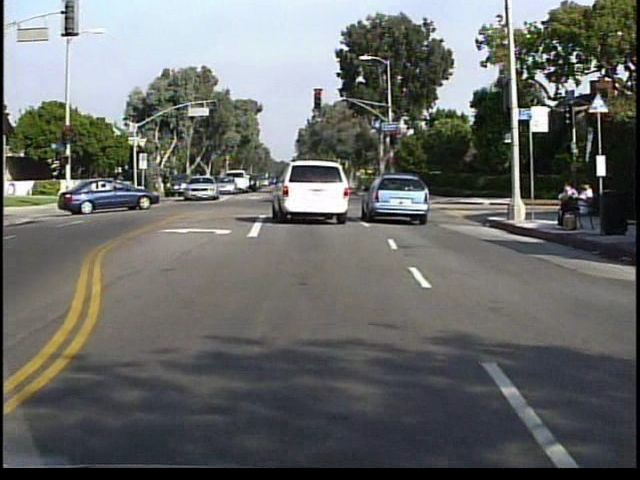person: (554, 179, 580, 230), (575, 179, 597, 231)
